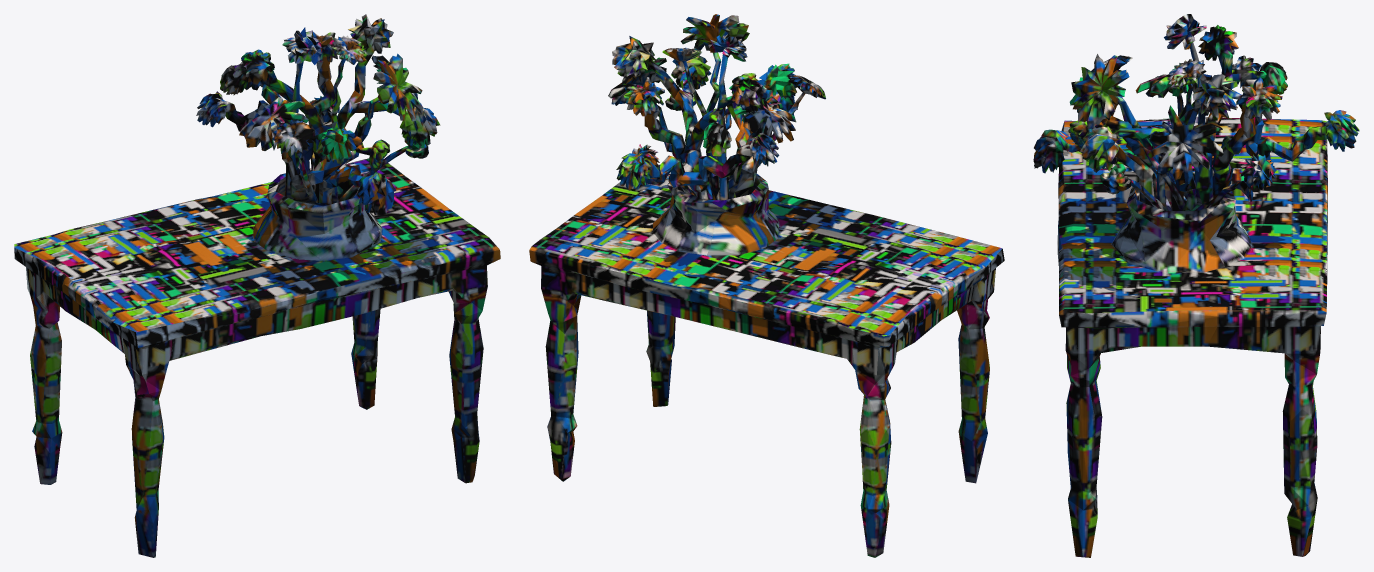
Rendered from BouquetOfHenri.glb.
The picture shows the model from 3 angles, left to right: view 1: azimuth 30°, elevation 25°; view 2: azimuth 150°, elevation 25°; view 3: azimuth 270°, elevation 25°; orthographic projection. The views are drawn at different scales.
Parts seen in each view (by area): view 1: BouquetOfHenriLafitLatour; view 2: BouquetOfHenriLafitLatour; view 3: BouquetOfHenriLafitLatour.
Part boxes in pixels (<box>): BouquetOfHenriLafitLatour: <box>14,14,500,557</box>; BouquetOfHenriLafitLatour: <box>529,14,1004,557</box>; BouquetOfHenriLafitLatour: <box>1033,14,1359,557</box>.
Bounding box in the file's own units: 1.06 × 1.23 × 0.7547.
Materials: 1 (1 with a texture image).
